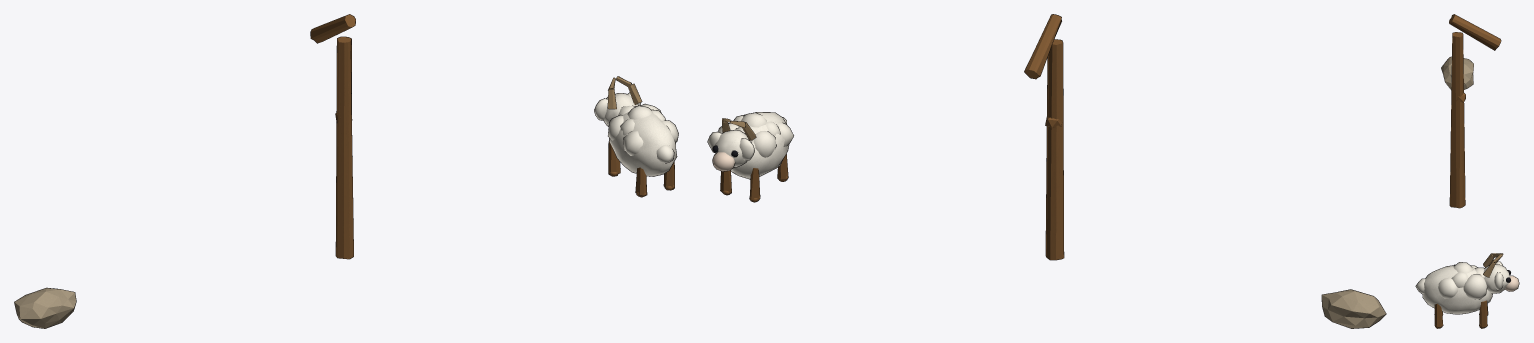
The model's file is wonder_items_v7.glb.
3 views of the same model, side by side, from view 1: azimuth 30°, elevation 25°; view 2: azimuth 150°, elevation 25°; view 3: azimuth 270°, elevation 25° (orthographic). The views are drawn at different scales.
Parts seen in each view (by area): view 1: WonderItem_Lamb, WonderItem_Staff, WonderItem_Stone, WonderItem_Lamb_Outline, WonderItem_Staff_Outline; view 2: WonderItem_Lamb, WonderItem_Staff, WonderItem_Stone, WonderItem_Lamb_Outline, WonderItem_Staff_Outline; view 3: WonderItem_Lamb, WonderItem_Staff, WonderItem_Stone, WonderItem_Lamb_Outline, WonderItem_Staff_Outline.
Part boxes in pixels (x1,y1,x2,y2): WonderItem_Lamb: (594, 76, 678, 196); WonderItem_Staff: (311, 14, 355, 258); WonderItem_Stone: (14, 288, 76, 328); WonderItem_Lamb_Outline: (594, 76, 678, 197); WonderItem_Staff_Outline: (310, 14, 355, 259); WonderItem_Lamb: (708, 112, 793, 201); WonderItem_Staff: (1024, 14, 1063, 259); WonderItem_Stone: (1322, 289, 1385, 328); WonderItem_Lamb_Outline: (707, 112, 793, 202); WonderItem_Staff_Outline: (1024, 14, 1064, 260); WonderItem_Lamb: (1416, 253, 1519, 328); WonderItem_Staff: (1449, 14, 1500, 207); WonderItem_Stone: (1441, 57, 1473, 89); WonderItem_Lamb_Outline: (1415, 253, 1519, 328); WonderItem_Staff_Outline: (1449, 14, 1501, 208).
Size of the model in its own units: 3.51 by 1.25 by 0.61.
7 materials, 7 textured.
